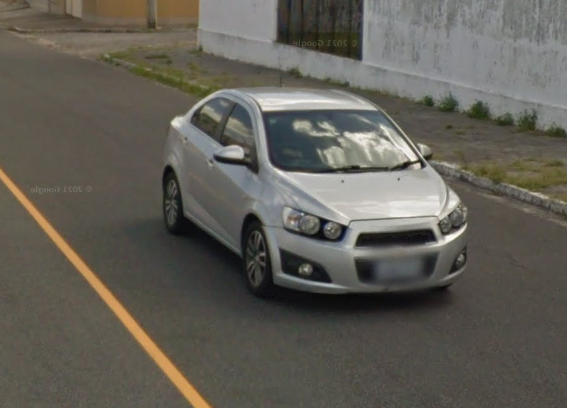car: (156, 66, 472, 308)
